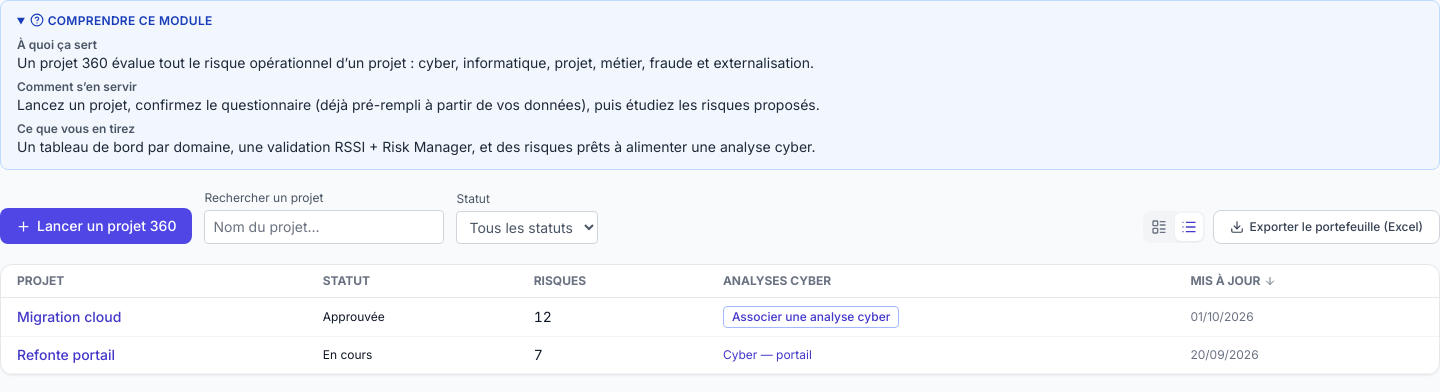
it: ProjetsManager — liste des projets 360 › recherche sans résultat : message
Type "zzz" into the search field labelled "Rechercher un projet" at (324, 227), box [204,210,444,244]
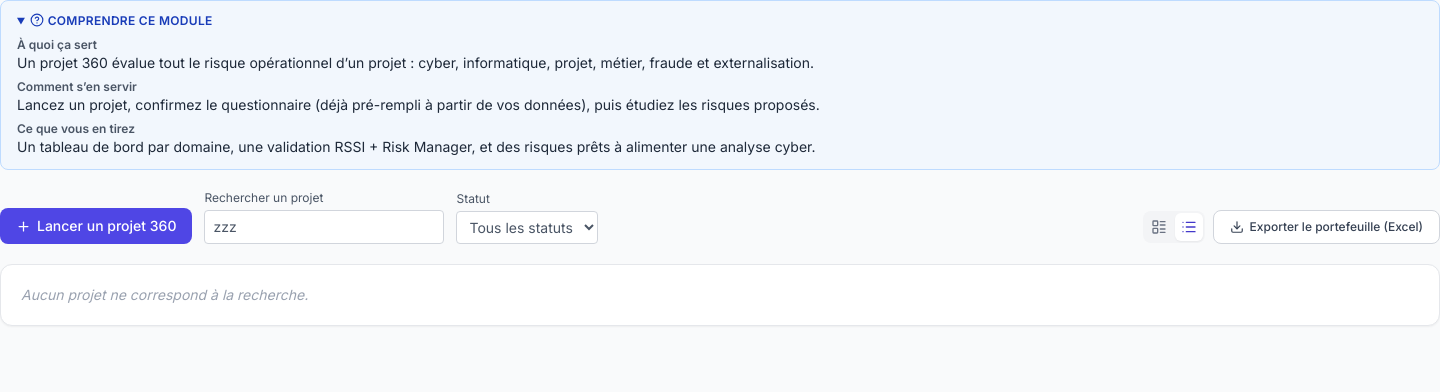
Check: the text "Aucun projet ne correspond à la recherche." is shown, box [21,286,308,303]
